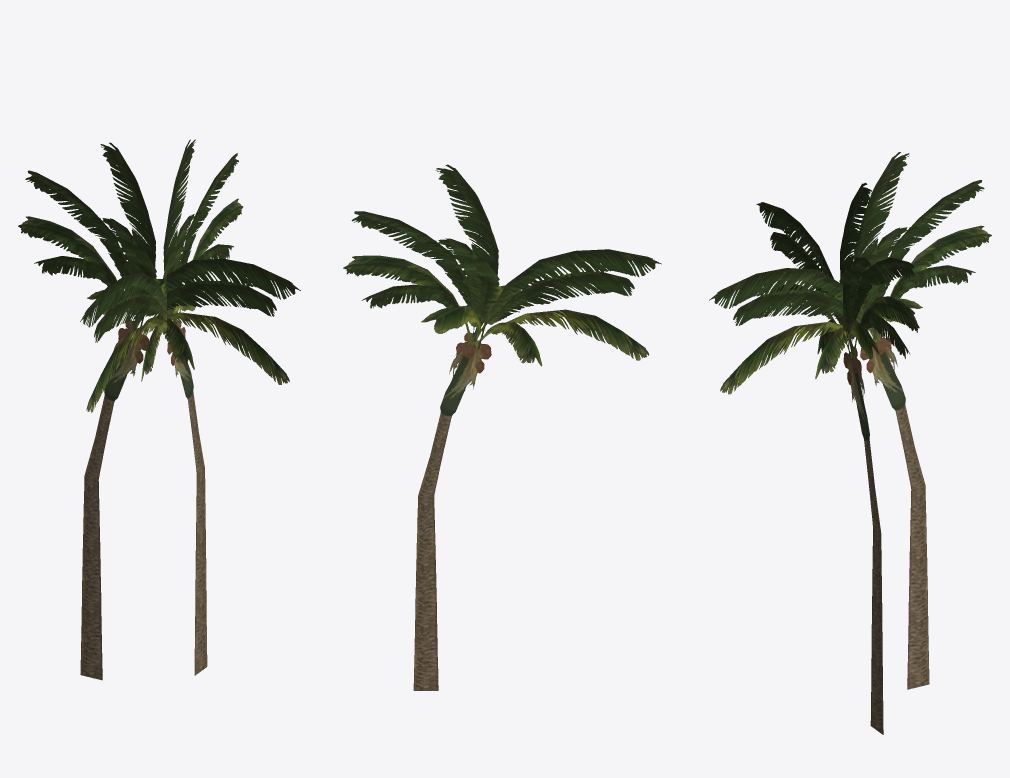
The model's file is kiV4_2s_LOD2.fbx.
3 views of the same model, side by side, from view 1: azimuth 30°, elevation 25°; view 2: azimuth 150°, elevation 25°; view 3: azimuth 270°, elevation 25° (orthographic). The views are drawn at different scales.
Visible parts, largest first — view 1: kiV4_LOD2; view 2: kiV4_LOD2; view 3: kiV4_LOD2.
Part boxes in pixels (bbox=[...]): kiV4_LOD2: bbox=[18, 139, 300, 680]; kiV4_LOD2: bbox=[343, 164, 661, 690]; kiV4_LOD2: bbox=[709, 152, 991, 734].
Size of the model in its own units: 2255 by 5248 by 2251.
